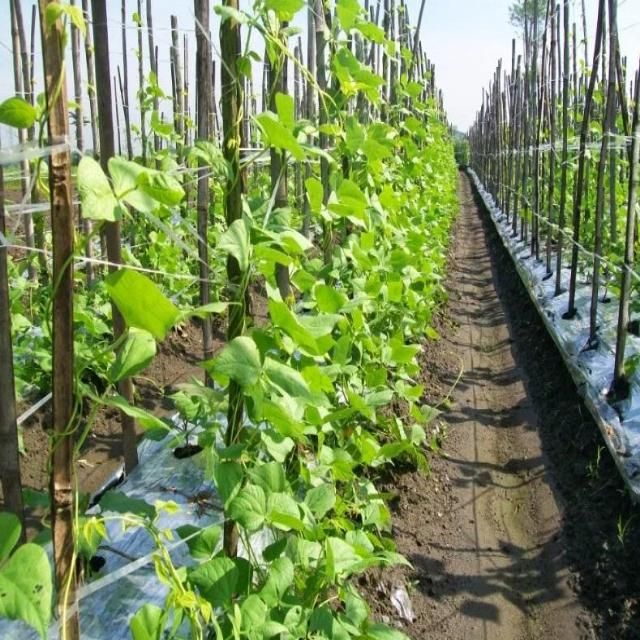row: (365, 167, 640, 640)
